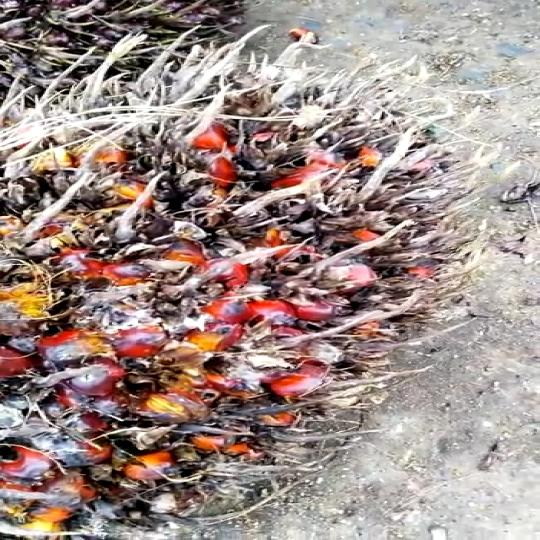terlalu masak: (0, 63, 452, 540)
